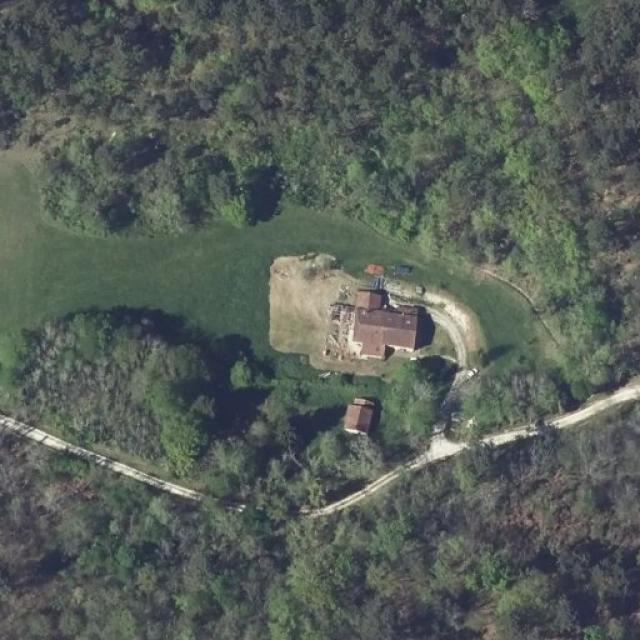ferme: (326, 275, 432, 359), (338, 382, 378, 436)
